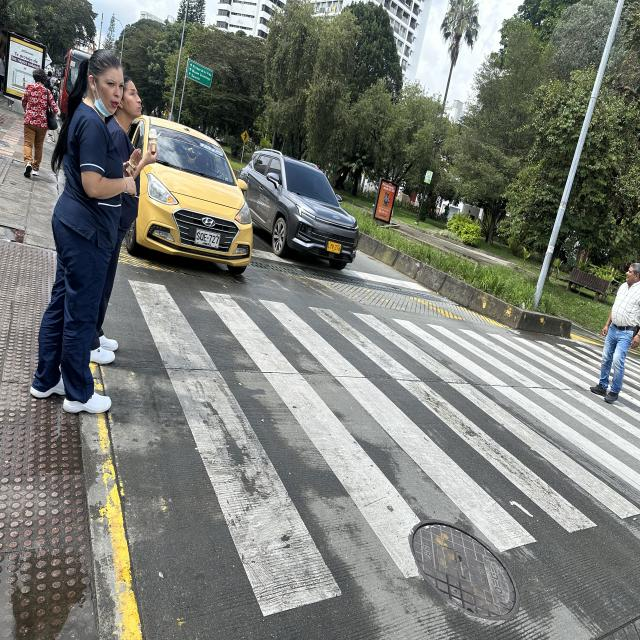number plate: (194, 228, 220, 248), (327, 241, 342, 254)
